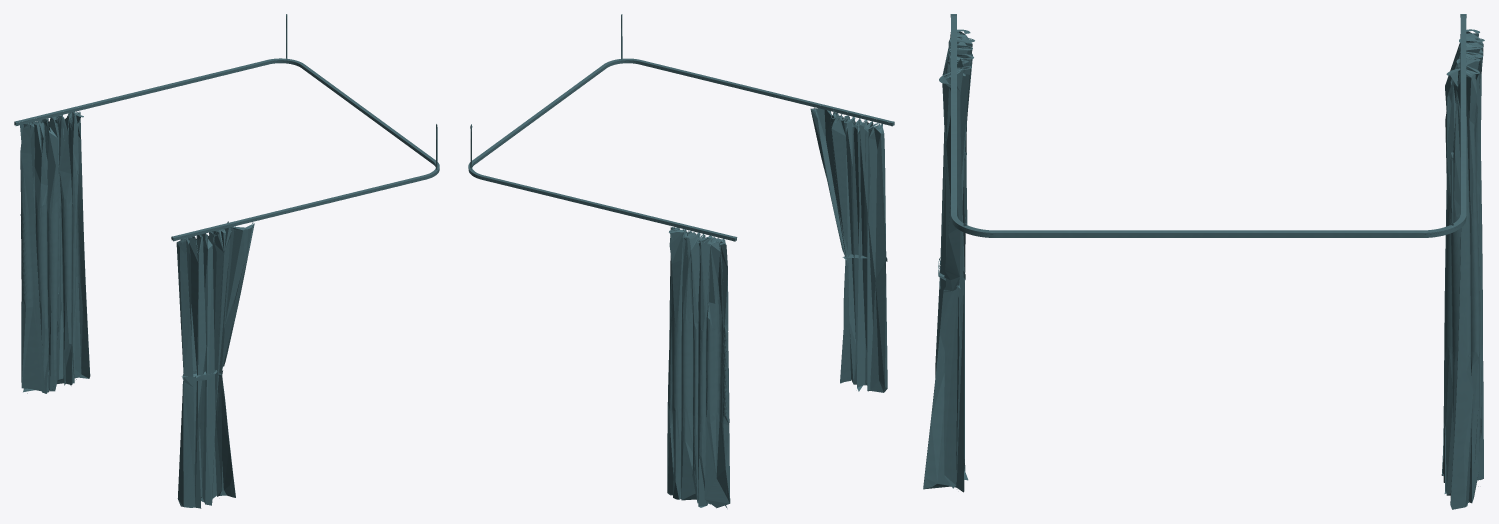
File: screen_hospital_b07.glb
3 views of the same model, side by side, from view 1: azimuth 30°, elevation 25°; view 2: azimuth 150°, elevation 25°; view 3: azimuth 270°, elevation 25° (orthographic). The views are drawn at different scales.
Visible parts, largest first — view 1: geometry_0; view 2: geometry_0; view 3: geometry_0.
Boxes of the visible parts, x1,y1,x2,y2 form: geometry_0: [14, 14, 439, 508]; geometry_0: [468, 14, 894, 508]; geometry_0: [923, 14, 1484, 509].
Bounding box in the file's own units: 0.3817 × 0.42 × 0.4142.
1 material, 1 textured.
